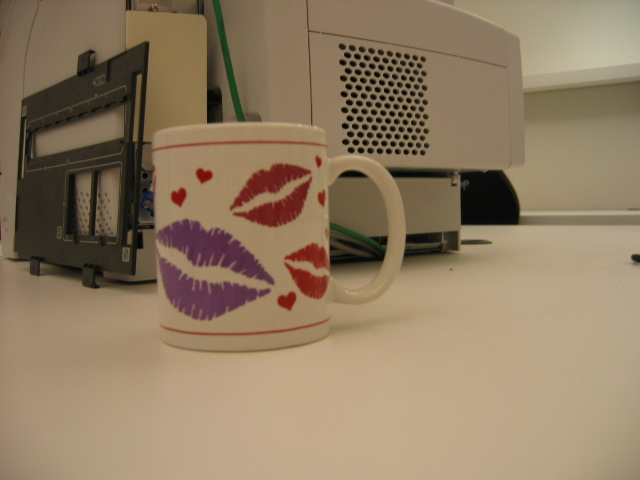mug: (148, 120, 407, 356)
